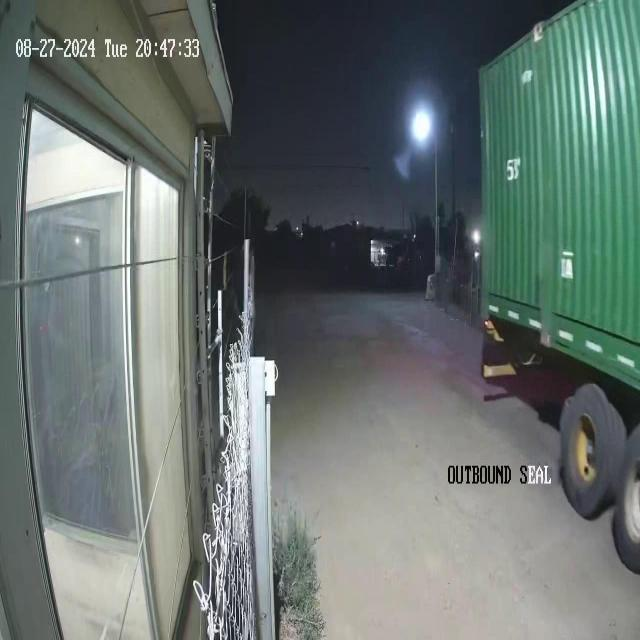TRUCK_IN: (477, 1, 639, 402)
